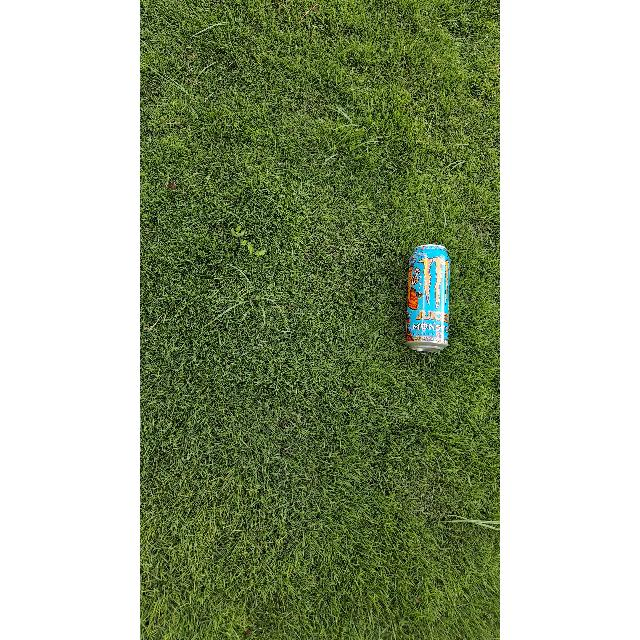Monster Mango Loco: (407, 244, 453, 354)
